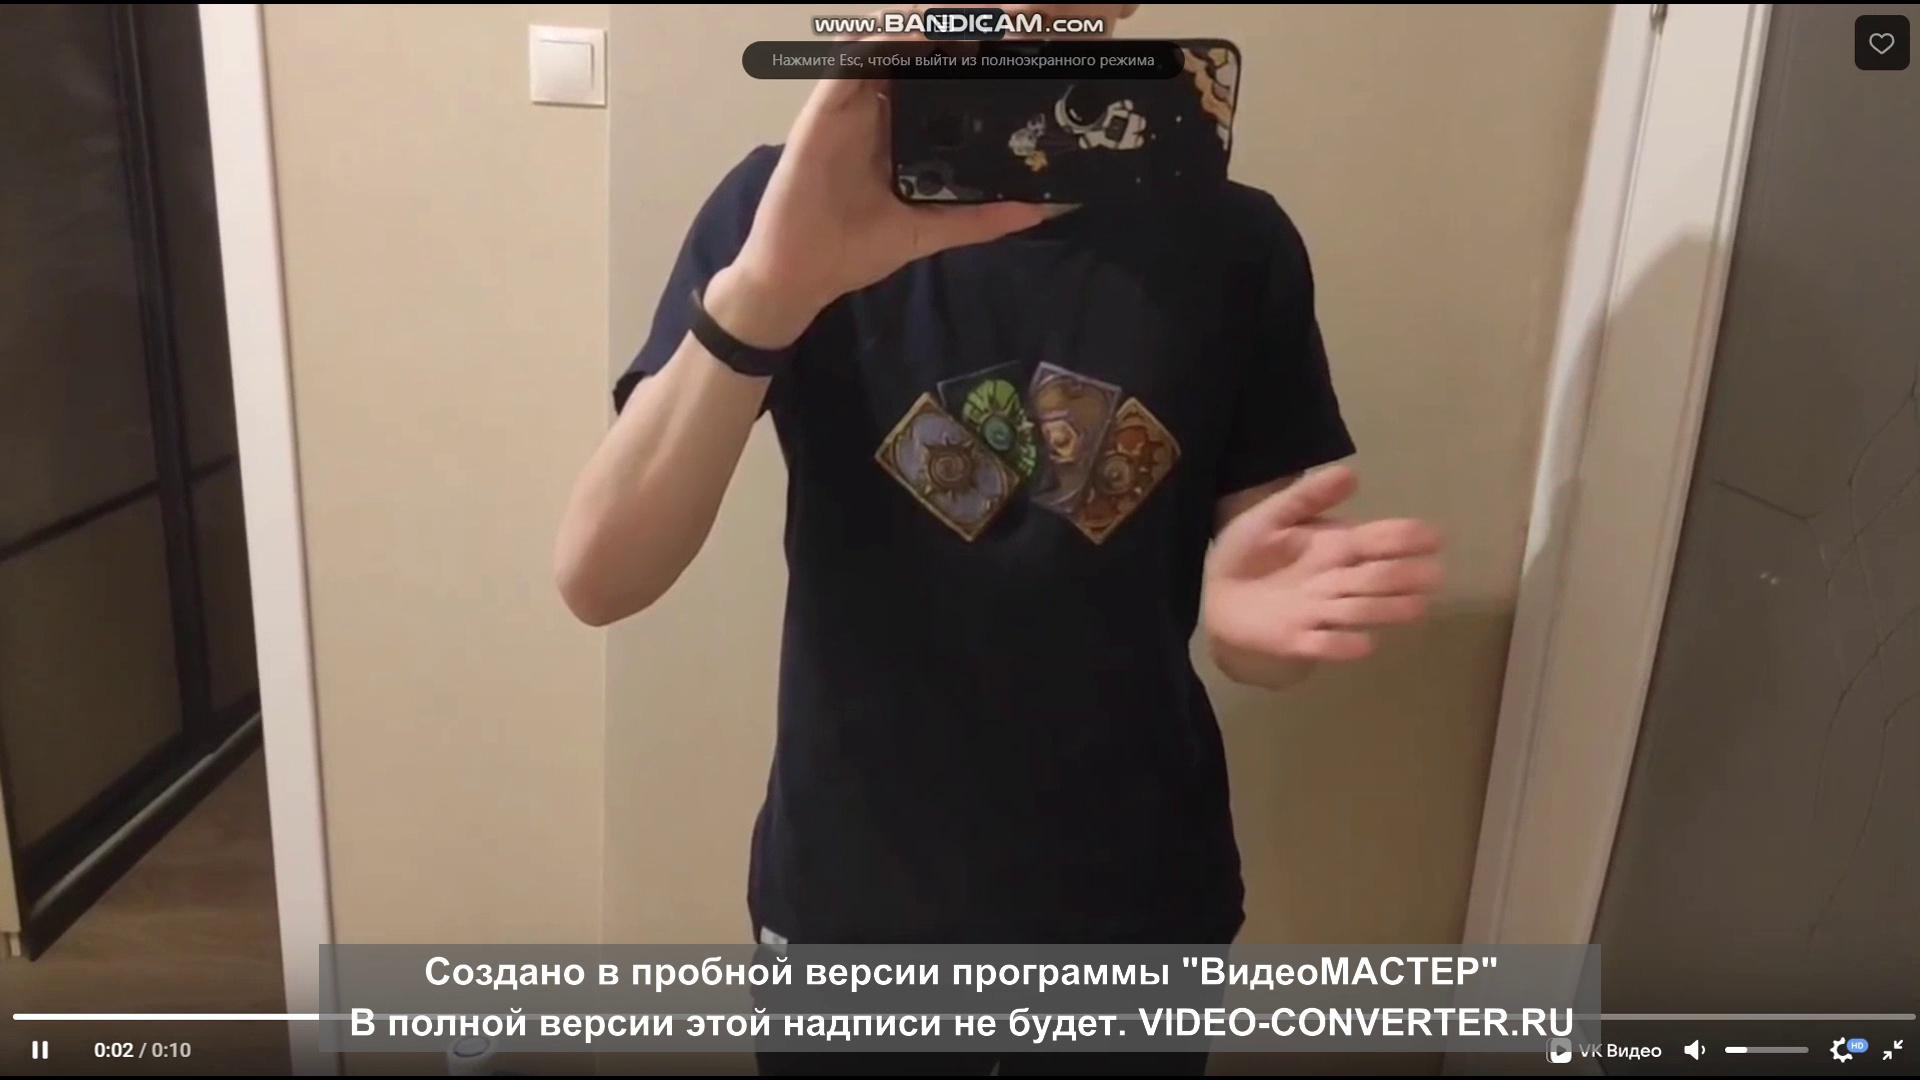Ладонь: (1203, 467, 1444, 662)
